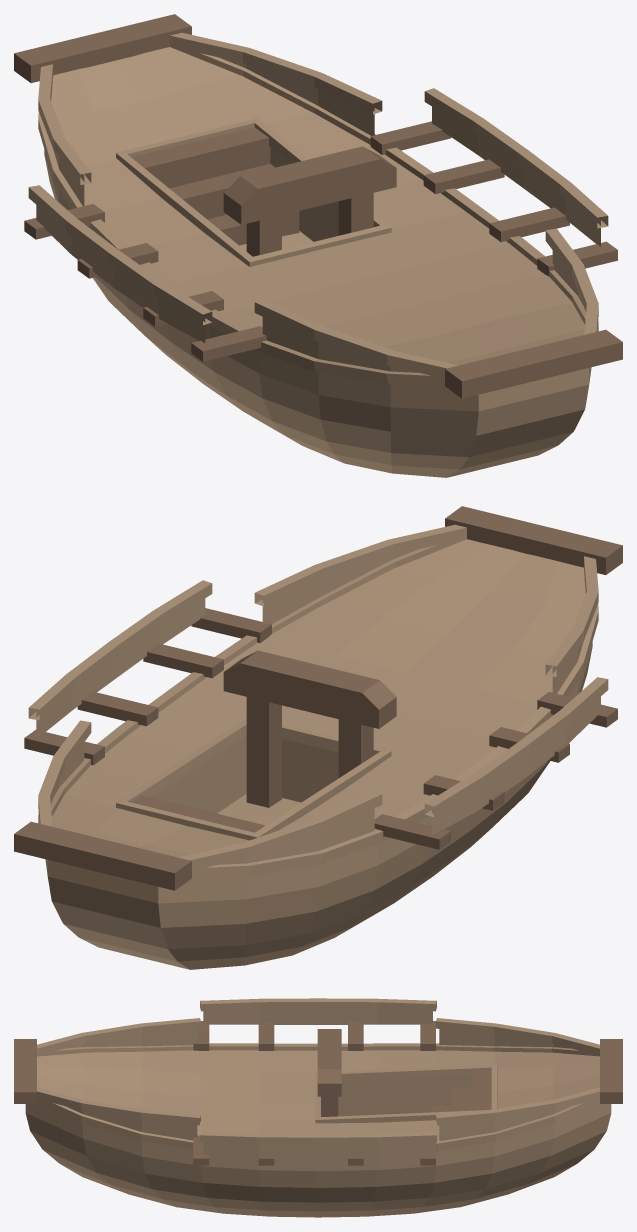
The model's file is ship_11_hull.glb.
The picture shows the model from 3 angles, top to bottom: view 1: azimuth 30°, elevation 25°; view 2: azimuth 150°, elevation 25°; view 3: azimuth 270°, elevation 25°; orthographic projection. The views are drawn at different scales.
Visible parts, largest first — view 1: hull.001, rail_upper.001, side_guard.001, mast_holder.001, rail_lower.001, stair.001, bumper_front.001, hull_inner_space_rail.001, bumper_back.001, extended_deck_01.001, extended_deck_03.001, extended_deck_04.001 (+2 smaller); view 2: hull.001, rail_upper.001, mast_holder.001, side_guard.001, rail_lower.001, hull_inner_space.001, hull_inner_space_rail.001, bumper_back.001, bumper_front.001, extended_deck_04.001, extended_deck_02.001, extended_deck_01.001 (+2 smaller); view 3: hull.001, rail_upper.001, side_guard.001, rail_lower.001, hull_inner_space.001, hull_inner_space_rail.001, mast_holder.001, bumper_front.001, bumper_back.001, stair.001, extended_deck_01.001, extended_deck_04.001 (+2 smaller).
Boxes of the visible parts, x1,y1,x2,y2 form: hull.001: (44,47,591,477); rail_upper.001: (28,32,608,376); side_guard.001: (36,57,600,372); mast_holder.001: (223,146,396,256); rail_lower.001: (38,46,598,387); stair.001: (131,127,299,245); bumper_front.001: (445,329,622,398); hull_inner_space_rail.001: (116,118,391,266); bumper_back.001: (14,14,191,82); extended_deck_01.001: (191,241,617,361); extended_deck_03.001: (77,159,504,278); extended_deck_04.001: (24,121,451,239); hull.001: (45,539,592,969); rail_upper.001: (28,524,608,868); mast_holder.001: (223,650,396,807); side_guard.001: (36,549,600,864); rail_lower.001: (38,533,598,879); hull_inner_space.001: (151,735,338,825); hull_inner_space_rail.001: (116,718,391,840); bumper_back.001: (14,821,191,890); bumper_front.001: (445,506,622,574); extended_deck_04.001: (24,730,451,849); extended_deck_02.001: (143,643,569,762); extended_deck_01.001: (191,608,617,727); hull.001: (25,1050,611,1217); rail_upper.001: (37,998,599,1144); side_guard.001: (65,1009,571,1160); rail_lower.001: (37,1043,599,1150); hull_inner_space.001: (338,1076,471,1116); hull_inner_space_rail.001: (315,1065,497,1123); mast_holder.001: (317,1029,341,1116); bumper_front.001: (14,1039,36,1103); bumper_back.001: (600,1039,622,1103); stair.001: (432,1070,491,1112); extended_deck_01.001: (193,1021,209,1165); extended_deck_04.001: (420,1021,435,1165).
Size of the model in its own units: 5.78 by 2.77 by 10.69.
